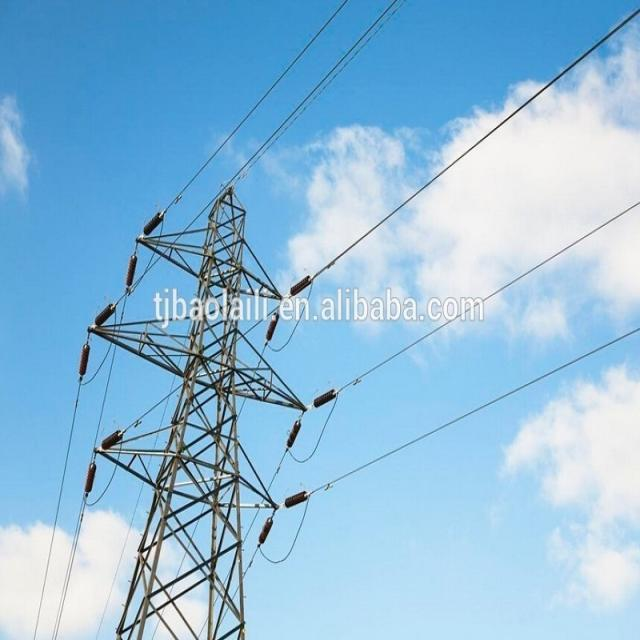non-critical vegetation: (86, 183, 305, 634)
